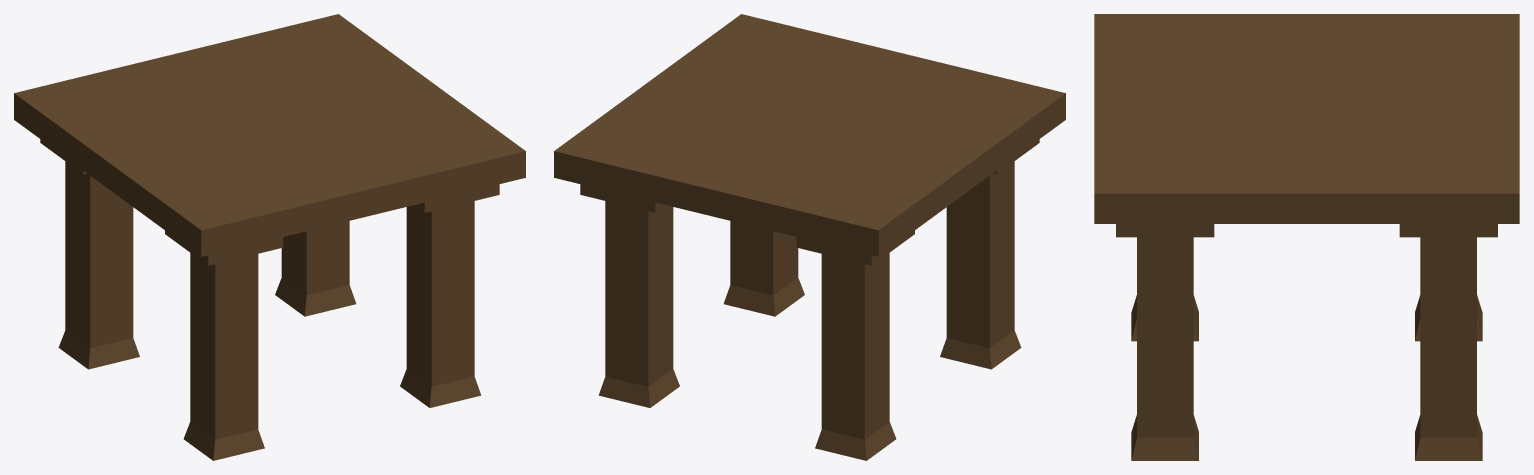
Rendered from stool.glb.
The picture shows the model from 3 angles, left to right: view 1: azimuth 30°, elevation 25°; view 2: azimuth 150°, elevation 25°; view 3: azimuth 270°, elevation 25°; orthographic projection. The views are drawn at different scales.
Visible parts, largest first — view 1: Cube; view 2: Cube; view 3: Cube.
Boxes of the visible parts, x1,y1,x2,y2 form: Cube: (14,14,525,460); Cube: (554,14,1065,460); Cube: (1094,14,1519,460).
Size of the model in its own units: 2 by 1.47 by 2.
